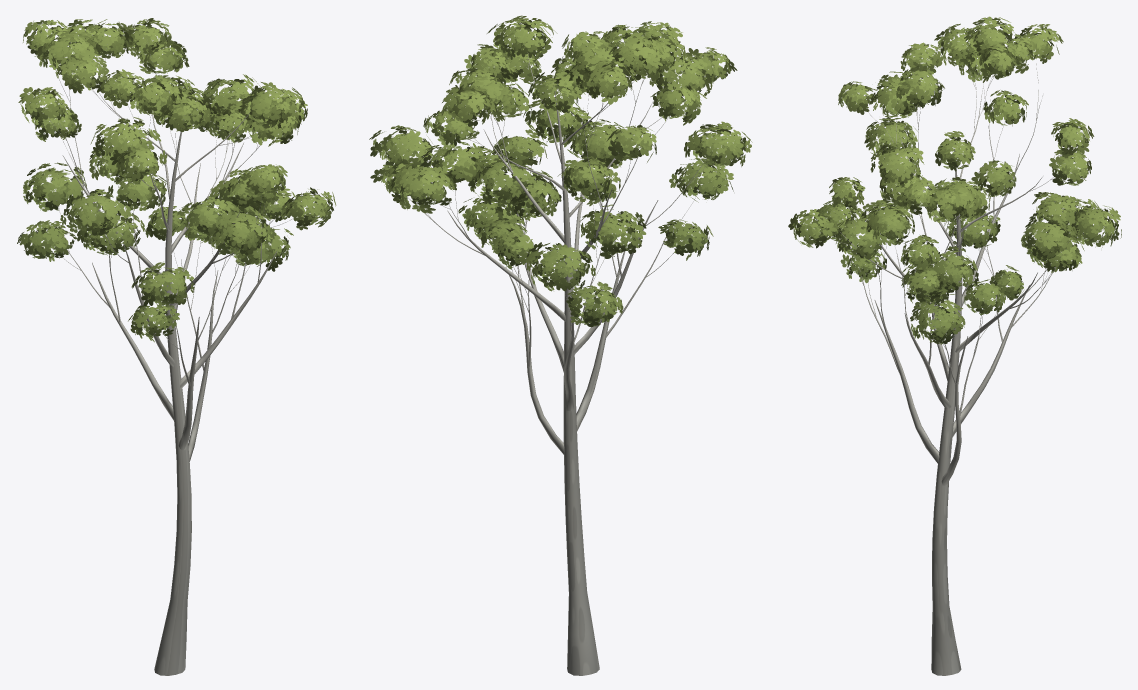
Rendered from tree.gltf.
3 views of the same model, side by side, from view 1: azimuth 30°, elevation 25°; view 2: azimuth 150°, elevation 25°; view 3: azimuth 270°, elevation 25° (orthographic). The views are drawn at different scales.
Parts seen in each view (by area): view 1: Tree_LOD0; view 2: Tree_LOD0; view 3: Tree_LOD0.
Boxes of the visible parts, x1,y1,x2,y2 form: Tree_LOD0: (17, 18, 336, 675); Tree_LOD0: (369, 15, 752, 675); Tree_LOD0: (788, 16, 1121, 675).
Bounding box in the file's own units: 11.23 × 24.3 × 12.09.
Materials: 2 (2 with a texture image).
